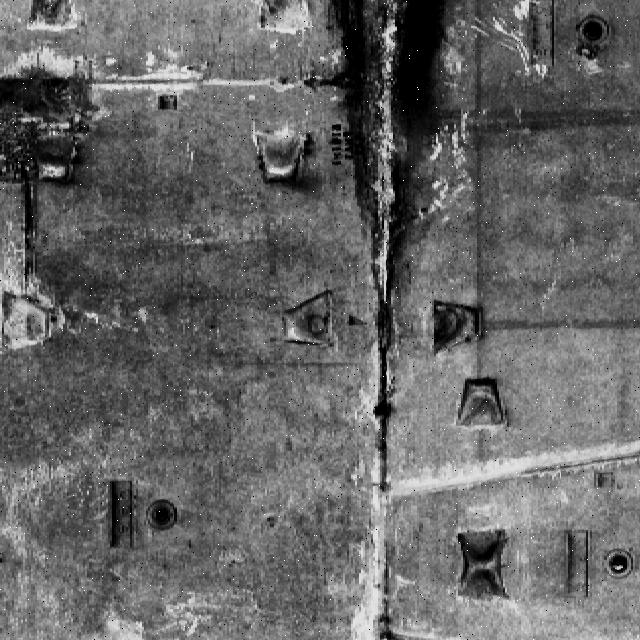leakage: (321, 0, 456, 422), (1, 43, 109, 292)
